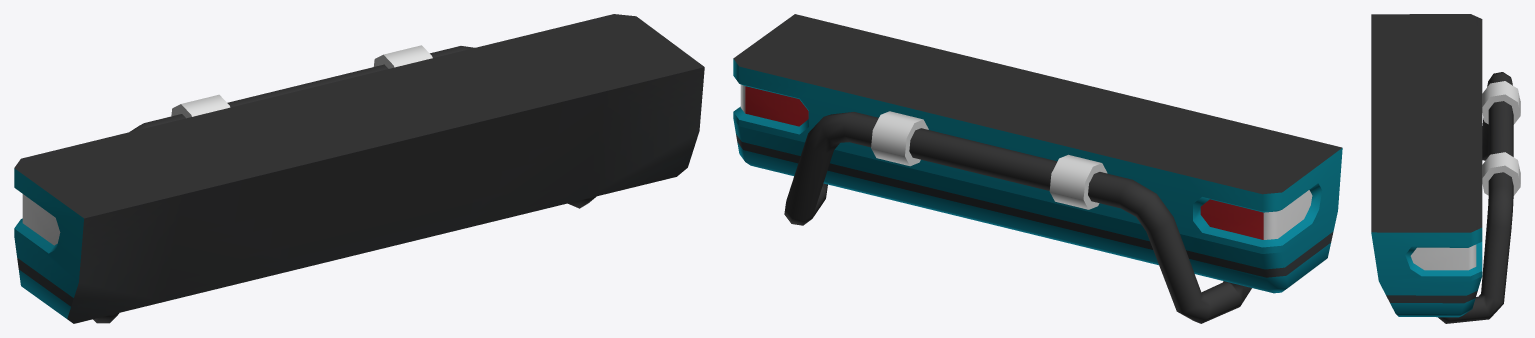
File: Car_04_RearBumper_Cool.fbx
The picture shows the model from 3 angles, left to right: view 1: azimuth 30°, elevation 25°; view 2: azimuth 150°, elevation 25°; view 3: azimuth 270°, elevation 25°; orthographic projection. The views are drawn at different scales.
Parts seen in each view (by area): view 1: Car_04_RearBumper_Cool; view 2: Car_04_RearBumper_Cool; view 3: Car_04_RearBumper_Cool.
Boxes of the visible parts, left/top/right/bottom form: Car_04_RearBumper_Cool: left=14, top=14, right=704, bottom=323; Car_04_RearBumper_Cool: left=733, top=14, right=1342, bottom=323; Car_04_RearBumper_Cool: left=1371, top=14, right=1520, bottom=323.
Size of the model in its own units: 200 by 57.8 by 49.16.
